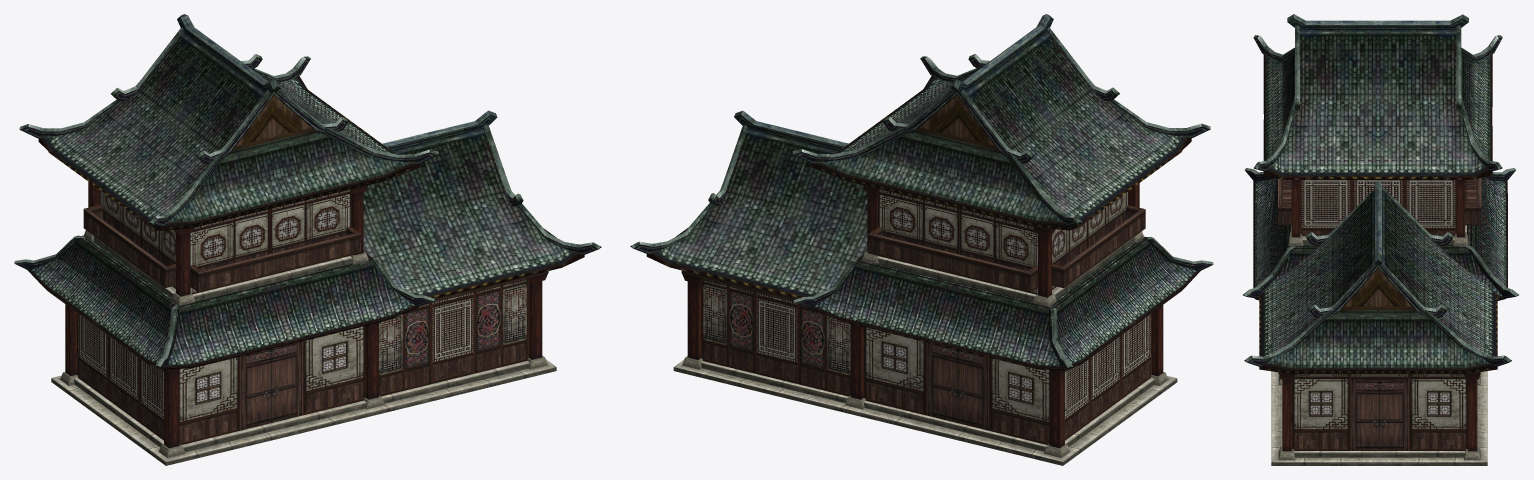
Rendered from c1-007-itemshop.glb.
3 views of the same model, side by side, from view 1: azimuth 30°, elevation 25°; view 2: azimuth 150°, elevation 25°; view 3: azimuth 270°, elevation 25° (orthographic). The views are drawn at different scales.
Parts seen in each view (by area): view 1: Object02; view 2: Object02; view 3: Object02.
Boxes of the visible parts, x1,y1,x2,y2 form: Object02: [14, 14, 601, 465]; Object02: [630, 14, 1213, 465]; Object02: [1243, 14, 1518, 465].
Size of the model in its own units: 18.41 by 13.68 by 10.48.
2 materials, 2 textured.
